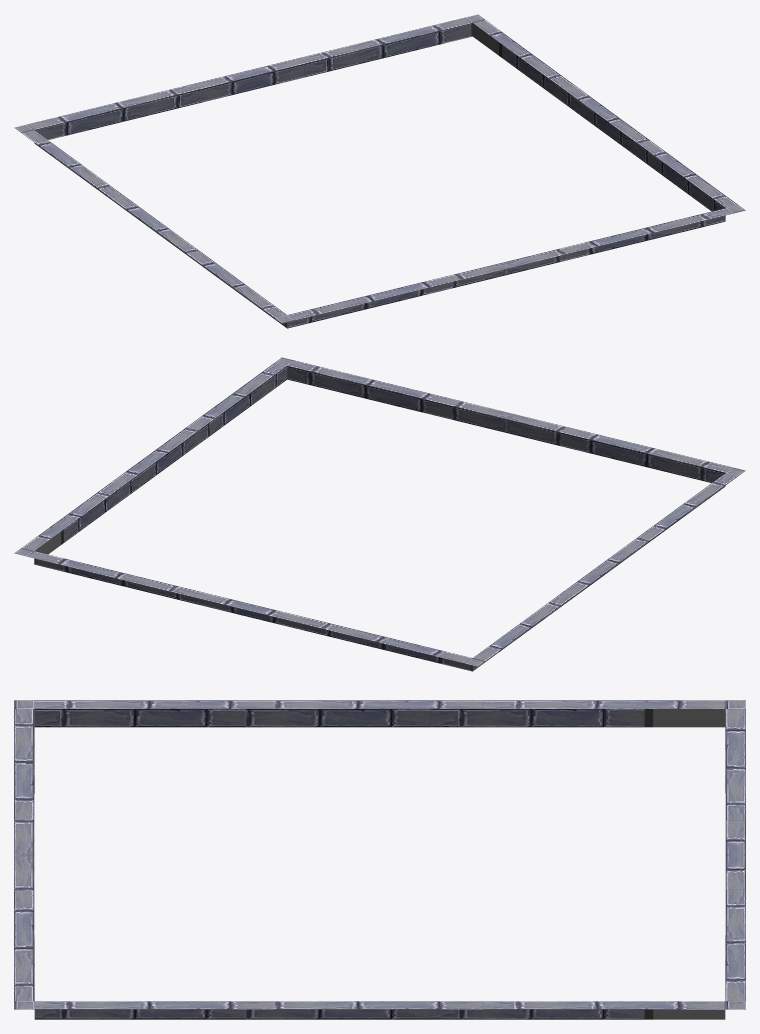
File: Dungeon_plith_closed.FBX
The picture shows the model from 3 angles, top to bottom: view 1: azimuth 30°, elevation 25°; view 2: azimuth 150°, elevation 25°; view 3: azimuth 270°, elevation 25°; orthographic projection. The views are drawn at different scales.
Parts seen in each view (by area): view 1: wall_closed; view 2: wall_closed; view 3: wall_closed.
Boxes of the visible parts, bbox=[...] form: wall_closed: bbox=[14, 14, 745, 328]; wall_closed: bbox=[14, 357, 745, 671]; wall_closed: bbox=[14, 700, 745, 1019].
Bounding box in the file's own units: 900 × 25 × 900.
Materials: 1 (1 with a texture image).
